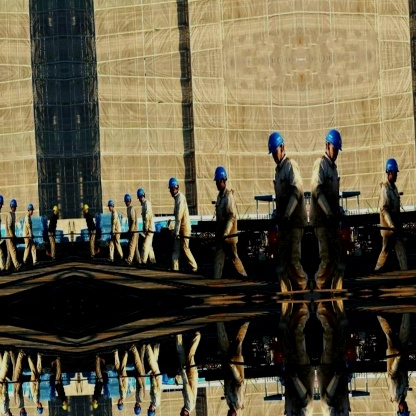blue: (266, 132, 285, 158), (211, 163, 228, 183), (166, 175, 180, 191), (136, 188, 145, 197), (105, 199, 115, 207), (123, 193, 131, 201)
yellow: (82, 203, 89, 211)
